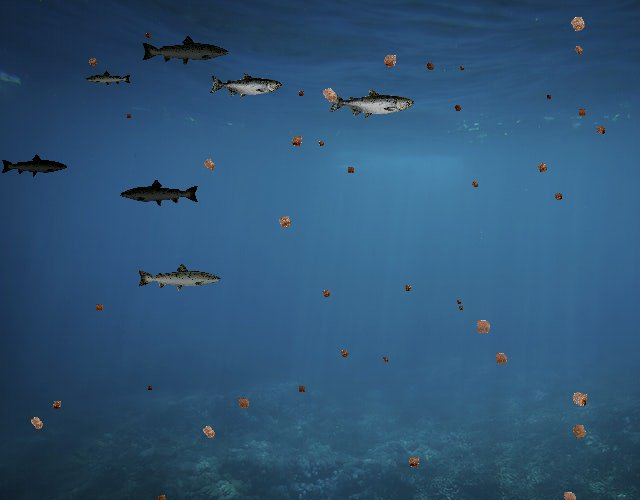Fish: (141, 35, 231, 67), (136, 262, 222, 293), (328, 88, 414, 119), (120, 179, 201, 208), (209, 72, 282, 99), (0, 154, 68, 178), (86, 71, 133, 88)
Pellet: (314, 80, 344, 110), (469, 312, 497, 340), (489, 347, 513, 371), (197, 152, 221, 176), (532, 157, 552, 177), (315, 137, 328, 150), (456, 302, 466, 312)
